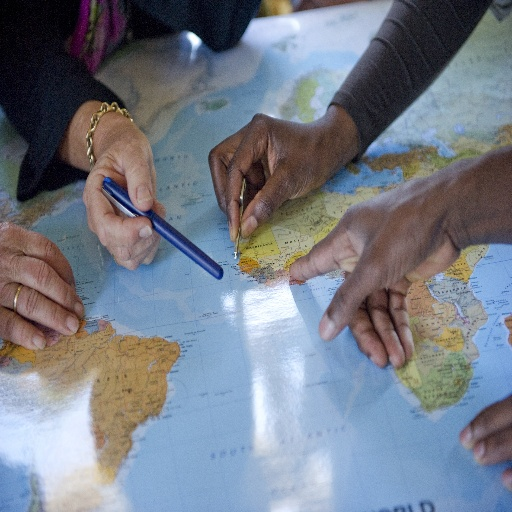hand: (286, 167, 463, 370), (206, 112, 333, 244), (82, 124, 167, 274), (2, 211, 84, 353), (456, 391, 511, 488)
